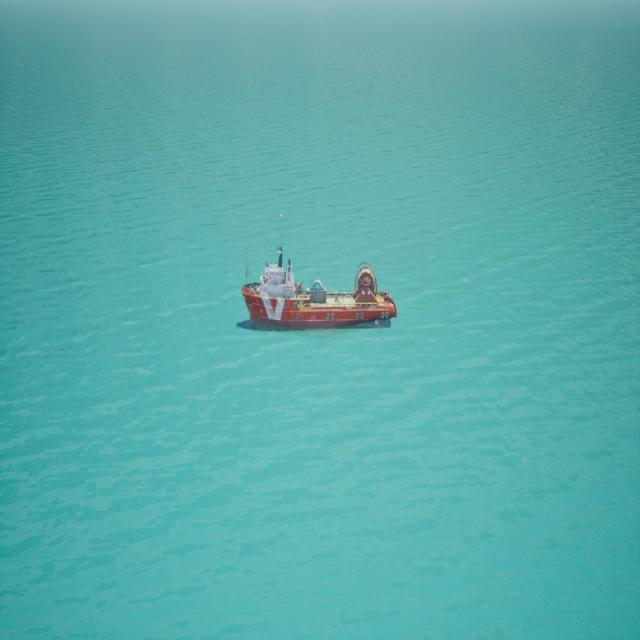tug boat: (240, 231, 398, 336)
